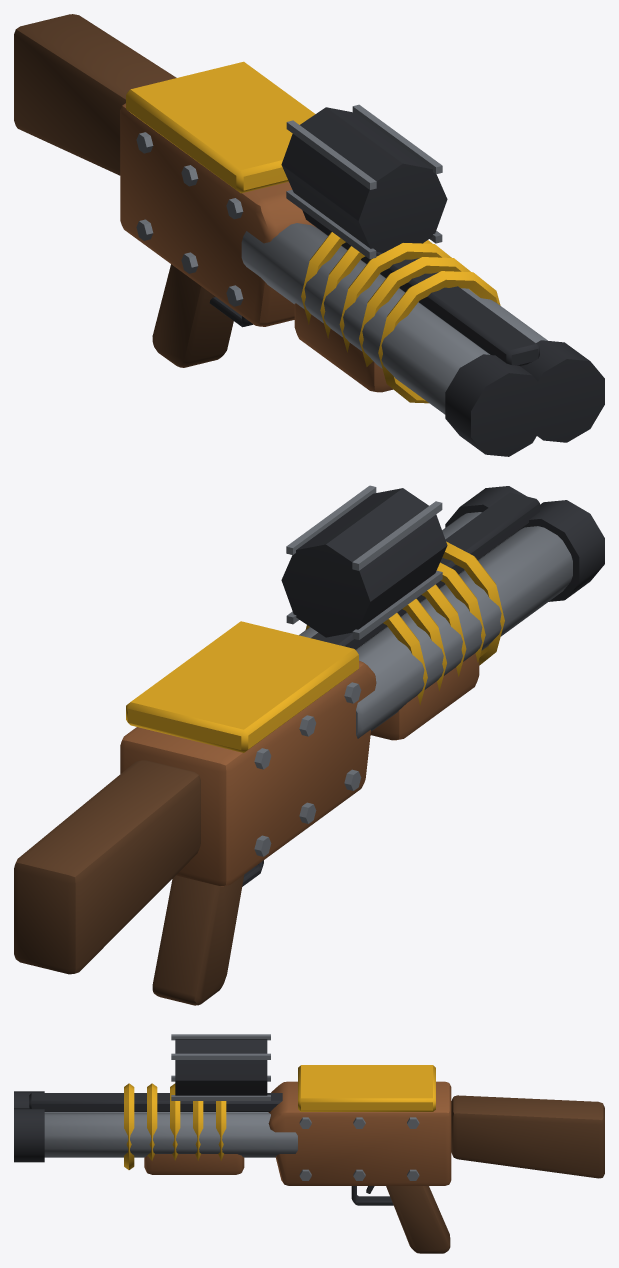
Rendered from charge_shotgun.glb.
3 renders of one model, top to bottom at view 1: azimuth 30°, elevation 25°; view 2: azimuth 150°, elevation 25°; view 3: azimuth 270°, elevation 25°, orthographic. The views are drawn at different scales.
Parts seen in each view (by area): view 1: mythic_charge_body, mythic_charge_barrels, mythic_charge_cage, mythic_charge_coil; view 2: mythic_charge_body, mythic_charge_barrels, mythic_charge_cage, mythic_charge_coil; view 3: mythic_charge_body, mythic_charge_barrels, mythic_charge_cage, mythic_charge_coil.
Boxes of the visible parts, box(x1,y1,x2,y2) form: mythic_charge_body: box(14, 14, 393, 392); mythic_charge_barrels: box(241, 210, 604, 456); mythic_charge_cage: box(281, 104, 447, 259); mythic_charge_coil: box(301, 232, 500, 403); mythic_charge_body: box(14, 621, 479, 1005); mythic_charge_barrels: box(299, 486, 604, 738); mythic_charge_cage: box(281, 485, 447, 639); mythic_charge_coil: box(305, 541, 504, 705); mythic_charge_body: box(144, 1065, 604, 1253); mythic_charge_barrels: box(14, 1091, 297, 1162); mythic_charge_cage: box(171, 1034, 270, 1100); mythic_charge_coil: box(124, 1083, 226, 1169).
Size of the model in its own units: 0.1205 by 0.3 by 0.77.
